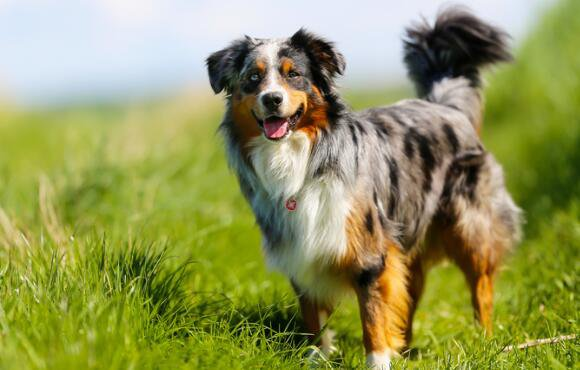dog: (208, 10, 524, 346)
